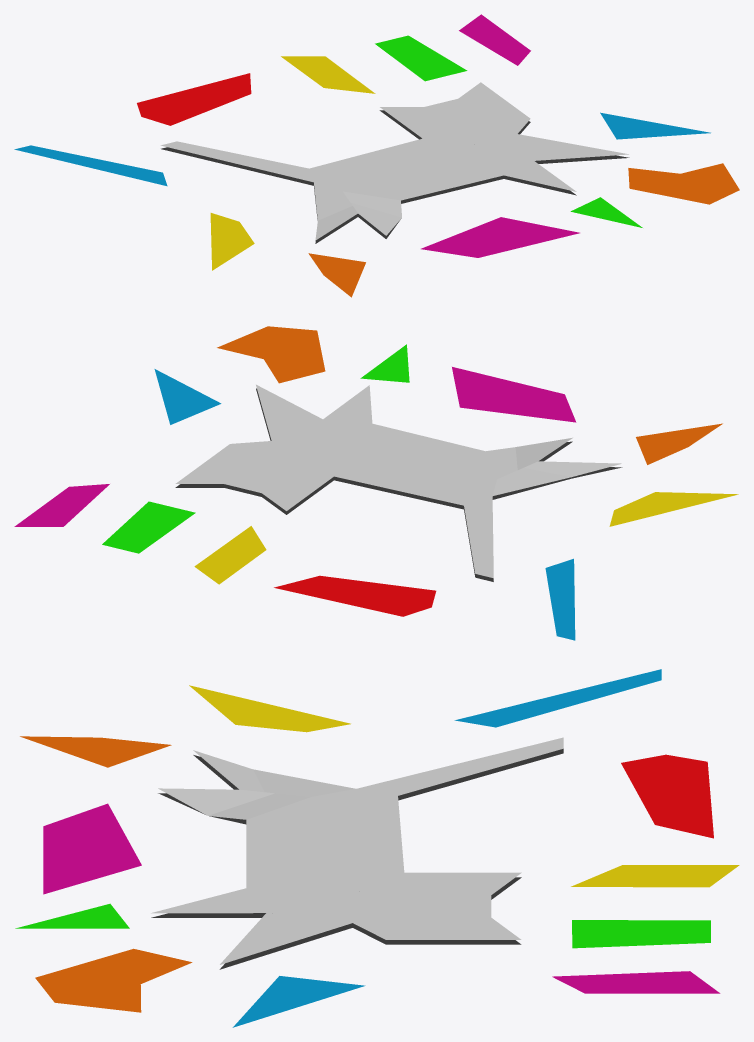
The model's file is Gato.fbx.
3 renders of one model, top to bottom at view 1: azimuth 30°, elevation 25°; view 2: azimuth 150°, elevation 25°; view 3: azimuth 270°, elevation 25°, orthographic. The views are drawn at different scales.
Visible parts, largest first — view 1: puzle.020, puzle.004, puzle.018, puzle.006, puzle.003, puzle.021, base, puzle.014, puzle.010, puzle.009, puzle.015, puzle.023 (+11 smaller); view 2: puzle.020, puzle.004, puzle.018, puzle.006, puzle.021, puzle.003, puzle.014, puzle.010, base, puzle.022, puzle.009, puzle.002 (+11 smaller); view 3: puzle.004, puzle.020, puzle.018, puzle.006, puzle.021, puzle.003, puzle.014, puzle.010, base, puzle.015, puzle.009, puzle.011 (+11 smaller).
Boxes of the visible parts, left/top/right/bottom form: puzle.020: left=343, top=159, right=503, bottom=200; puzle.004: left=421, top=217, right=579, bottom=257; puzle.018: left=422, top=134, right=533, bottom=175; puzle.006: left=628, top=163, right=739, bottom=204; puzle.003: left=137, top=73, right=251, bottom=125; puzle.021: left=309, top=138, right=423, bottom=191; base: left=161, top=110, right=629, bottom=243; puzle.014: left=425, top=98, right=516, bottom=144; puzle.010: left=375, top=35, right=467, bottom=81; puzle.009: left=281, top=56, right=375, bottom=93; puzle.015: left=380, top=107, right=474, bottom=144; puzle.023: left=160, top=141, right=313, bottom=182; puzle.020: left=372, top=423, right=496, bottom=479; puzle.004: left=452, top=367, right=576, bottom=422; puzle.018: left=272, top=419, right=380, bottom=476; puzle.006: left=217, top=326, right=325, bottom=383; puzle.021: left=334, top=464, right=496, bottom=505; puzle.003: left=274, top=575, right=436, bottom=616; puzle.014: left=225, top=441, right=318, bottom=493; puzle.010: left=102, top=501, right=195, bottom=553; base: left=175, top=388, right=622, bottom=581; puzle.022: left=492, top=461, right=621, bottom=495; puzle.009: left=194, top=526, right=266, bottom=584; puzle.002: left=609, top=492, right=738, bottom=526; puzle.004: left=43, top=803, right=141, bottom=894; puzle.020: left=246, top=797, right=344, bottom=887; puzle.018: left=246, top=859, right=403, bottom=922; puzle.006: left=35, top=948, right=192, bottom=1012; puzle.021: left=311, top=789, right=404, bottom=872; puzle.003: left=621, top=754, right=713, bottom=838; puzle.014: left=352, top=894, right=491, bottom=922; puzle.010: left=572, top=920, right=710, bottom=948; base: left=151, top=748, right=563, bottom=969; puzle.015: left=353, top=872, right=521, bottom=895; puzle.009: left=571, top=865, right=739, bottom=887; puzle.011: left=552, top=971, right=720, bottom=993.
Size of the model in its own units: 1066 by 6.56 by 912.
